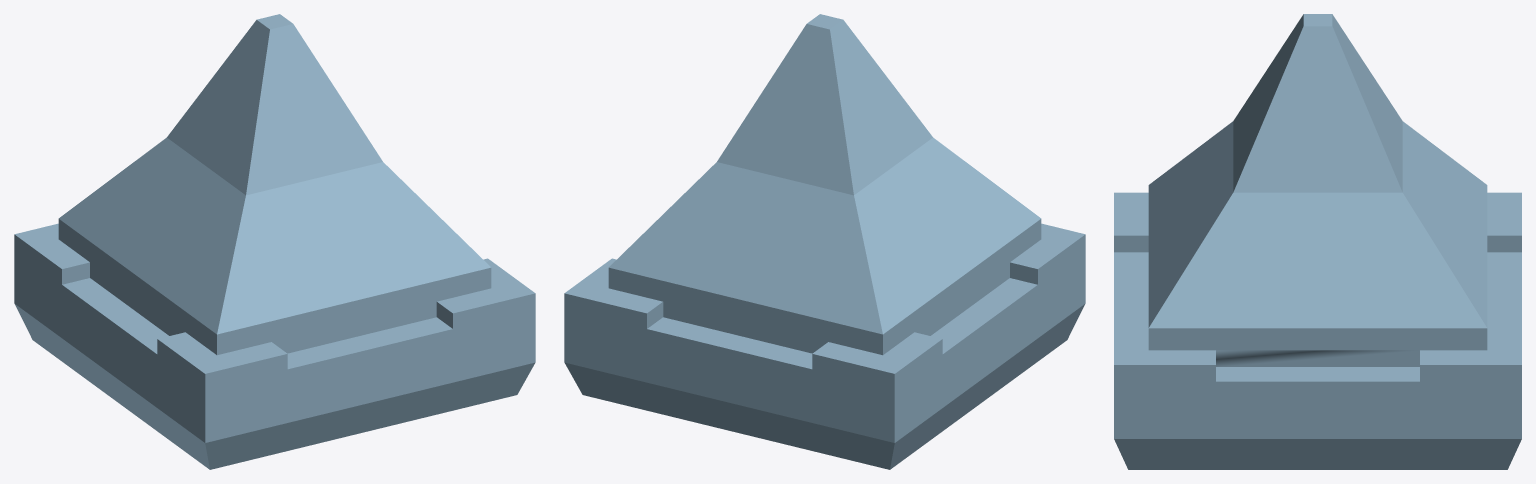
Rendered from towerSquareTopRoof.fbx.
3 views of the same model, side by side, from view 1: azimuth 30°, elevation 25°; view 2: azimuth 150°, elevation 25°; view 3: azimuth 270°, elevation 25° (orthographic). The views are drawn at different scales.
Visible parts, largest first — view 1: towerSquareTopRoof; view 2: towerSquareTopRoof; view 3: towerSquareTopRoof.
Boxes of the visible parts, bbox=[...] form: towerSquareTopRoof: bbox=[14, 14, 535, 469]; towerSquareTopRoof: bbox=[564, 14, 1085, 469]; towerSquareTopRoof: bbox=[1114, 14, 1521, 469].
Bounding box in the file's own units: 300 × 300 × 300.
